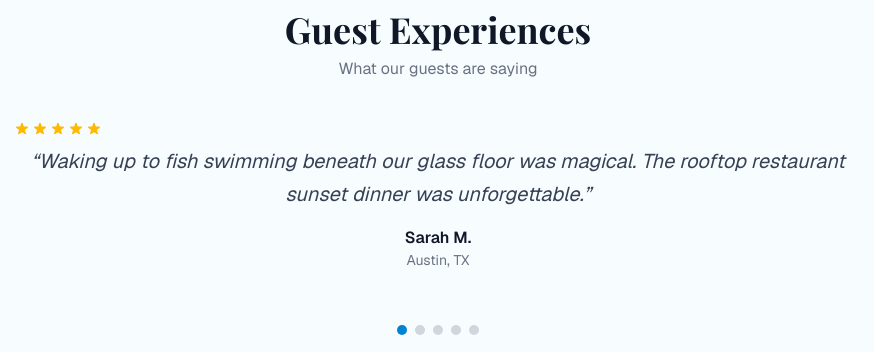
Test case: TestimonialsCarousel › should navigate when a dot is clicked
Click the button named "Show testimonial".
click(438, 330)  # box top-left (433, 325), bottom-right (443, 335)
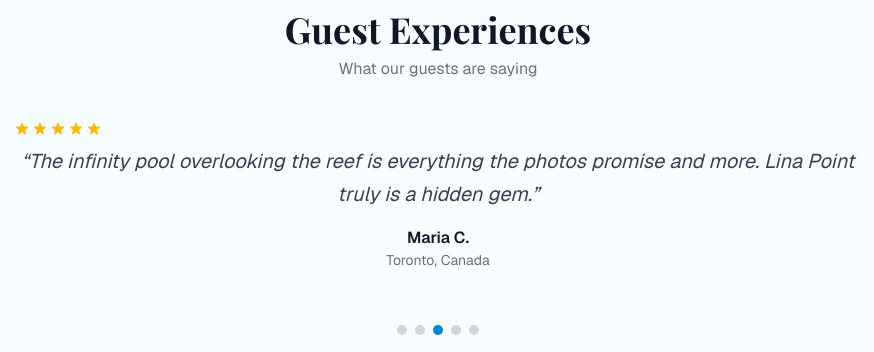
Now the text "Maria C." is shown, box top-left (407, 227), bottom-right (469, 248)
